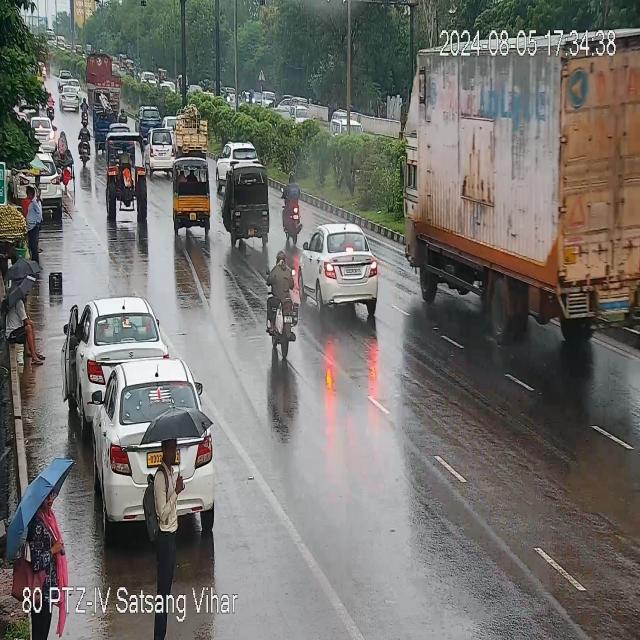2-wheelers: (262, 259, 300, 366), (281, 173, 306, 244), (76, 125, 94, 166)
auto: (219, 168, 272, 246), (107, 142, 149, 232), (173, 161, 215, 229), (171, 110, 210, 152), (92, 106, 118, 148)
car: (82, 361, 220, 538), (70, 297, 165, 401), (304, 227, 388, 315), (17, 153, 64, 214), (142, 129, 177, 173), (329, 114, 363, 148), (219, 142, 263, 166), (135, 106, 161, 137), (290, 105, 315, 133), (61, 82, 83, 109), (140, 74, 160, 96)
pedestrian: (146, 433, 188, 578), (23, 489, 63, 590), (6, 288, 44, 363), (22, 185, 44, 262)
truck: (403, 32, 640, 327), (86, 55, 124, 106)
